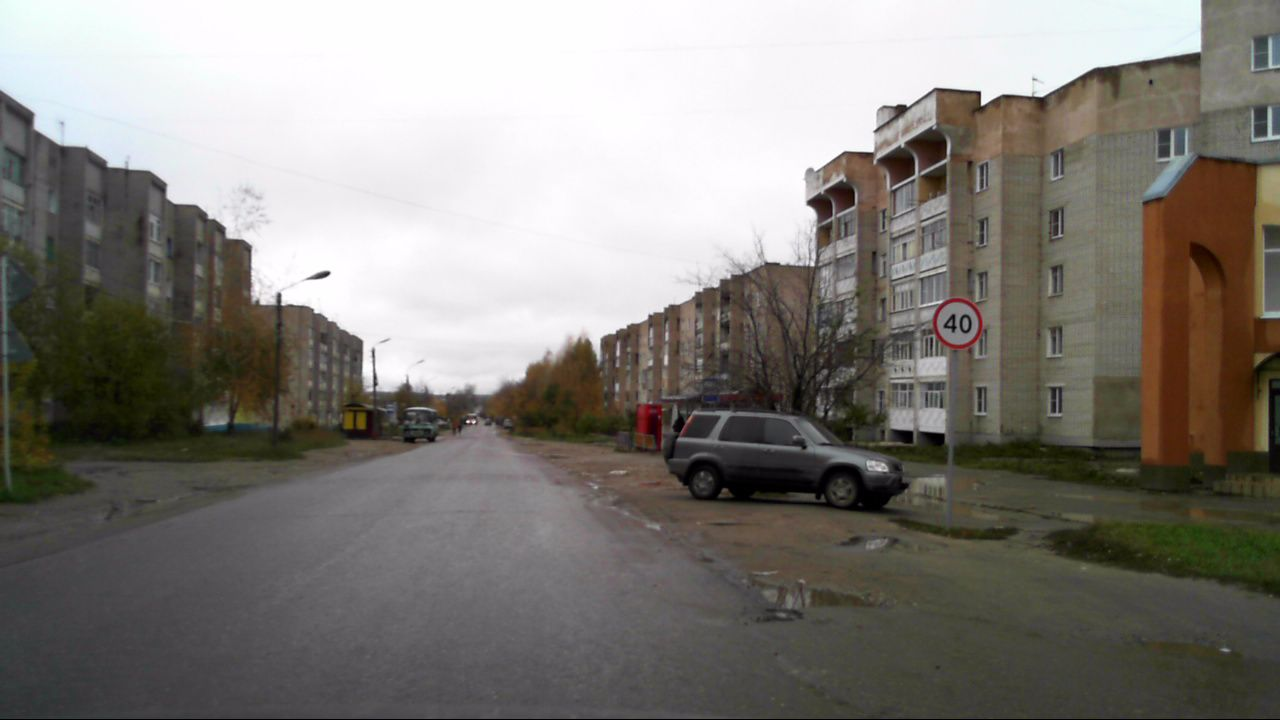speed_warning_40: (931, 297, 984, 348)
